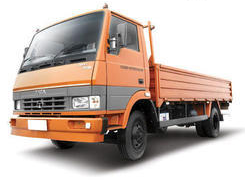truck: (7, 4, 237, 170)
